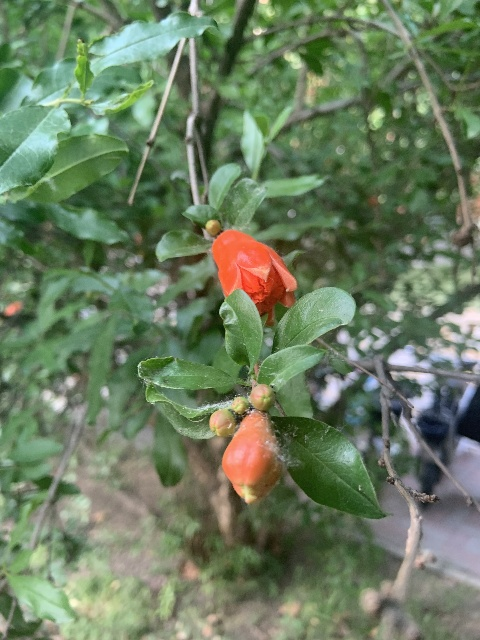bud: (222, 412, 281, 503), (250, 383, 276, 411), (209, 408, 234, 437), (205, 219, 222, 235)
flower: (211, 229, 297, 325)
